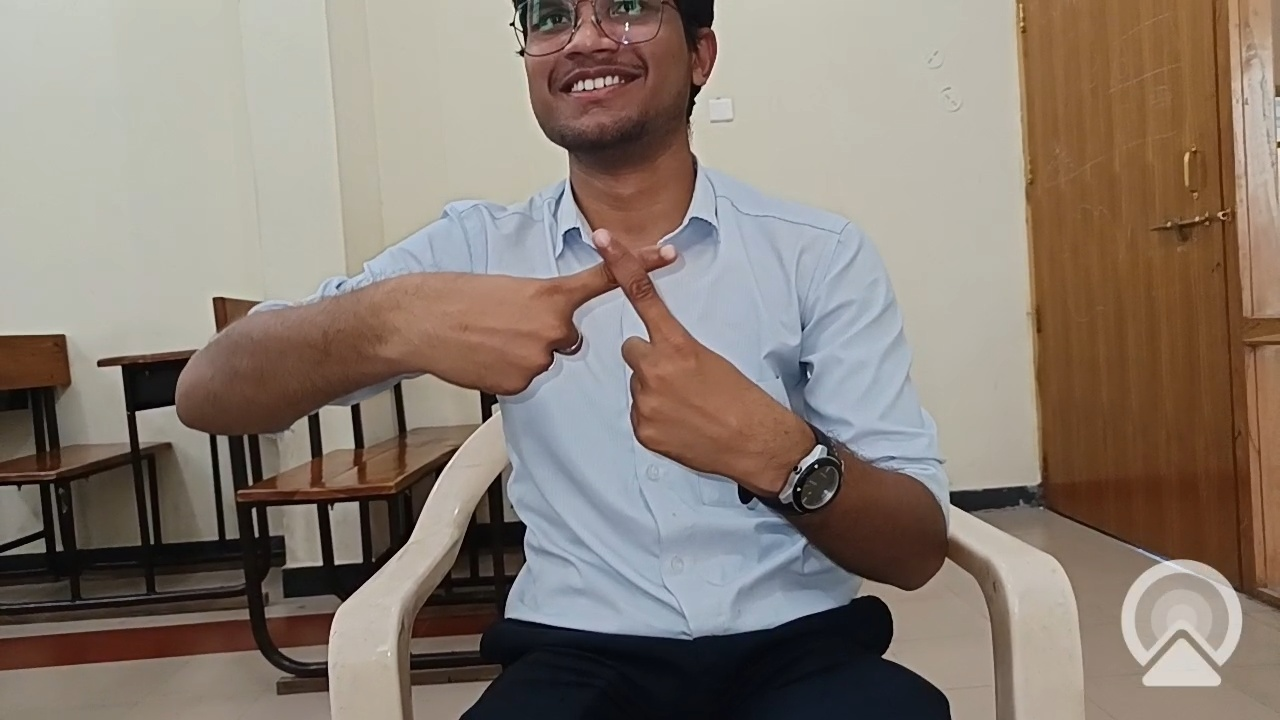X: (369, 203, 844, 547)
